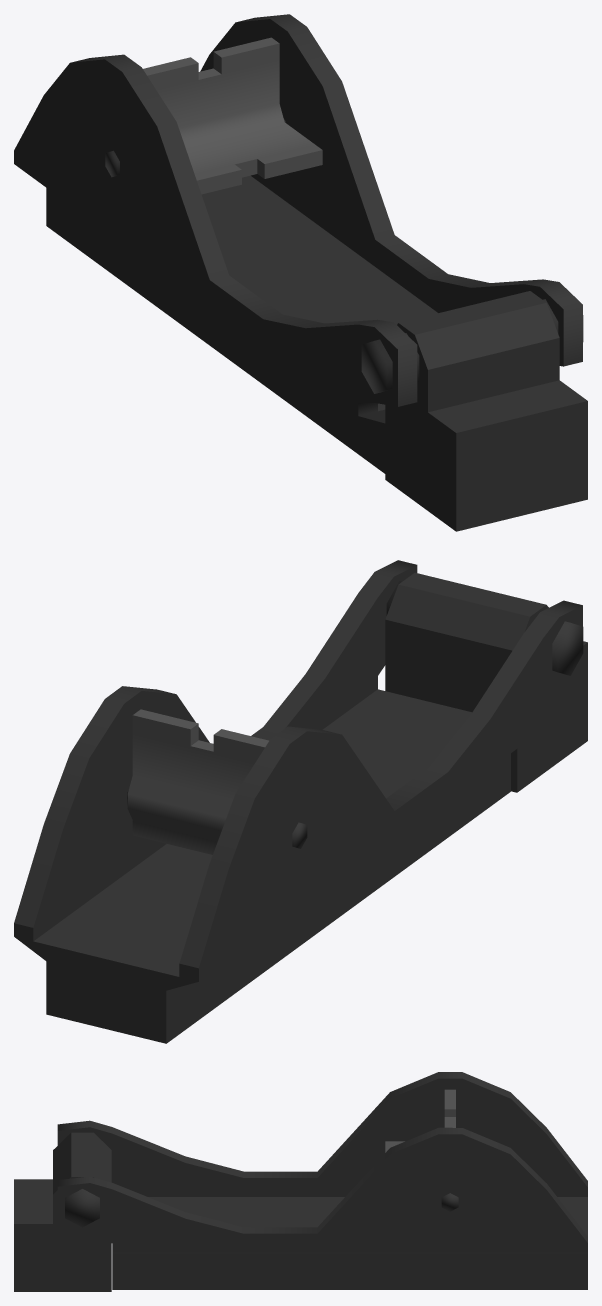
Rendered from scope_0.fbx.
3 views of the same model, one above another, from view 1: azimuth 30°, elevation 25°; view 2: azimuth 150°, elevation 25°; view 3: azimuth 270°, elevation 25° (orthographic). The views are drawn at different scales.
Visible parts, largest first — view 1: scope_0; view 2: scope_0; view 3: scope_0.
Part boxes in pixels (left/top/right/bottom): scope_0: left=14, top=14, right=587, bottom=531; scope_0: left=14, top=560, right=587, bottom=1043; scope_0: left=14, top=1072, right=587, bottom=1291.
Bounding box in the file's own units: 141 × 166 × 518.
